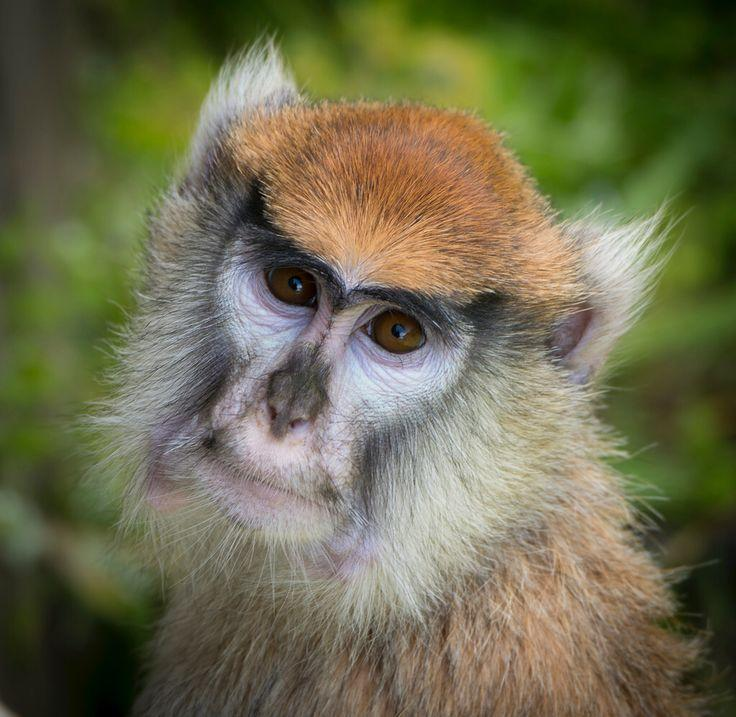monkey: (95, 36, 697, 717)
